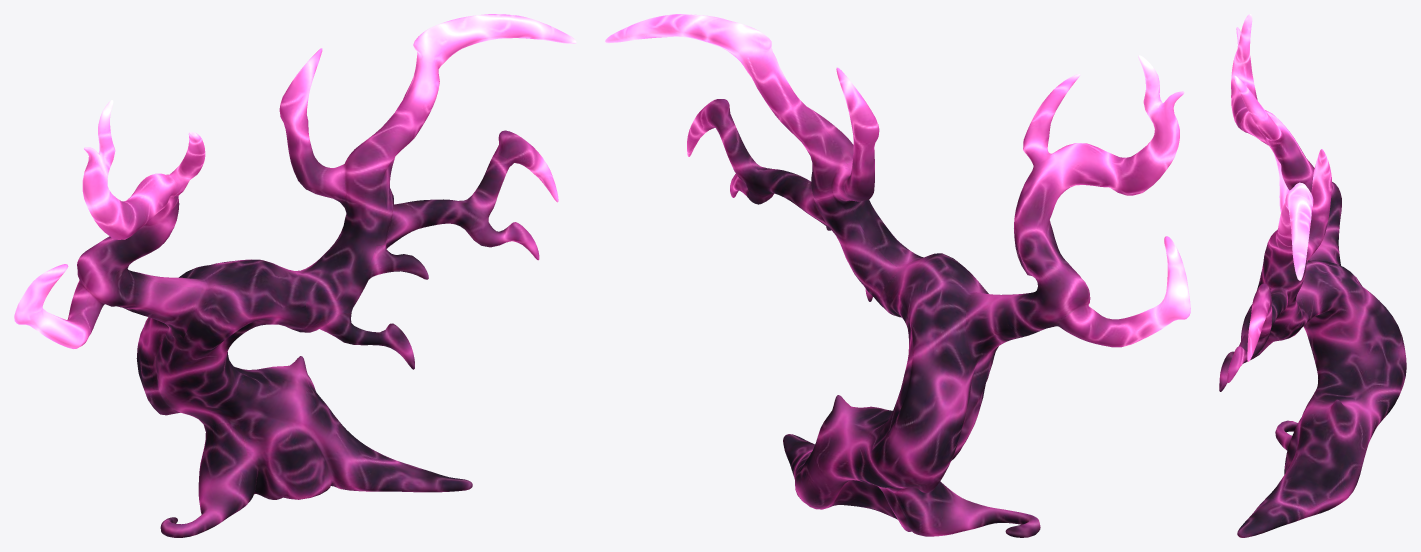
File: caos_sts_clawplant_01a_chaos_v36.glb
3 views of the same model, side by side, from view 1: azimuth 30°, elevation 25°; view 2: azimuth 150°, elevation 25°; view 3: azimuth 270°, elevation 25° (orthographic). The views are drawn at different scales.
Parts seen in each view (by area): view 1: caos_sts_clawplant_01a; view 2: caos_sts_clawplant_01a; view 3: caos_sts_clawplant_01a.
Boxes of the visible parts, x1=… form: caos_sts_clawplant_01a: x1=14, y1=14, x2=576, y2=537; caos_sts_clawplant_01a: x1=605, y1=14, x2=1190, y2=537; caos_sts_clawplant_01a: x1=1219, y1=14, x2=1406, y2=537.
Bounding box in the file's own units: 7.58 × 6.03 × 2.66.
Materials: 1 (1 with a texture image).
